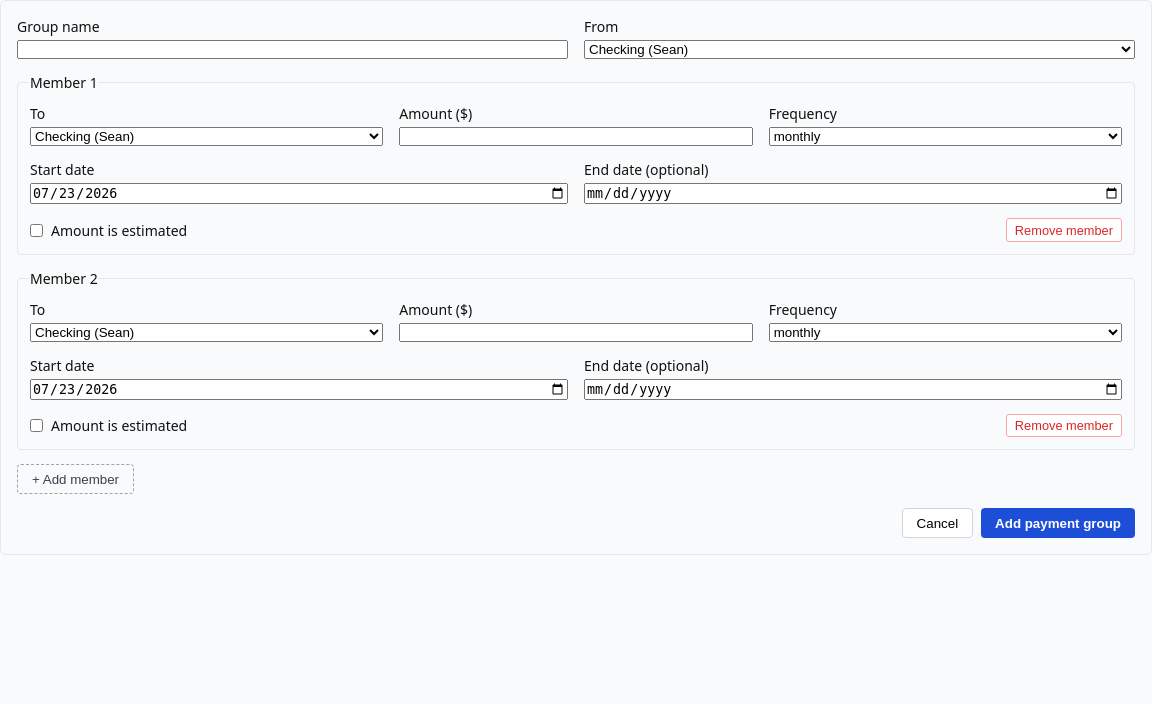
Test: ScheduleGroupForm — structure › adds a member row when + Add member is clicked
The image size is (1152, 704).
What coordinates should you click on to do the following:
click the button "+ Add member"
I would click on:
 (76, 479)
Its box is [17,464,134,494].
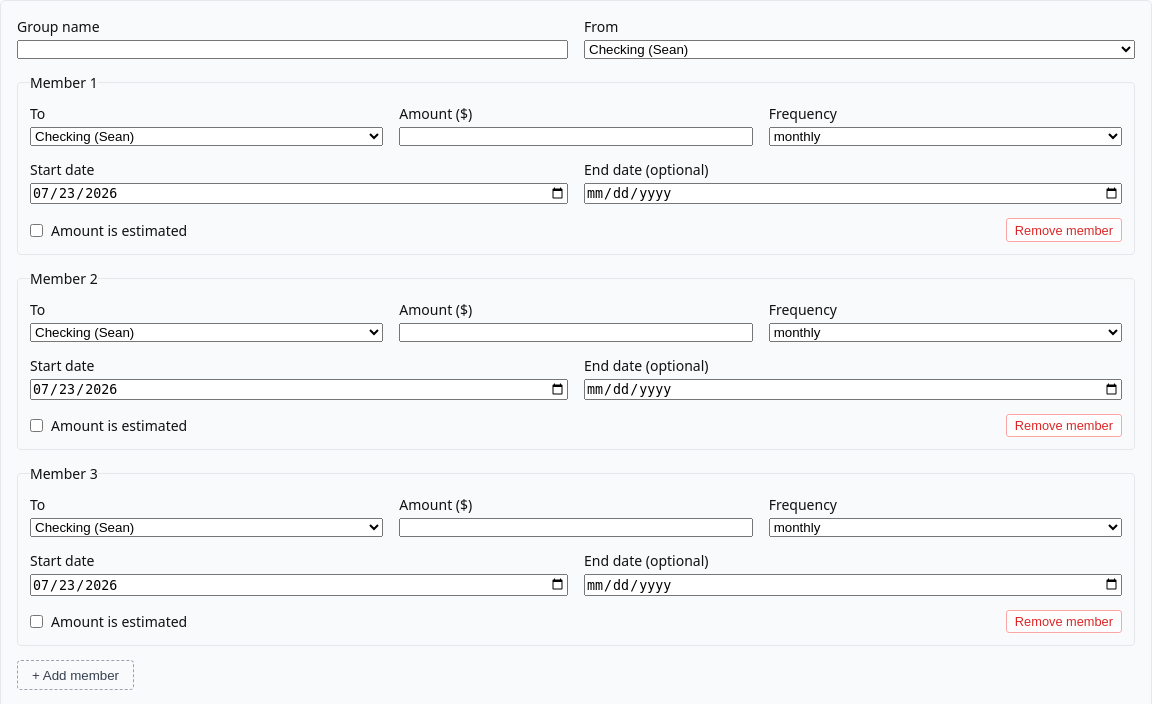
Expected: the number of dropdowns labelled "To" is 3, [30,127,383,146]; [30,323,383,342]; [30,518,383,537]
